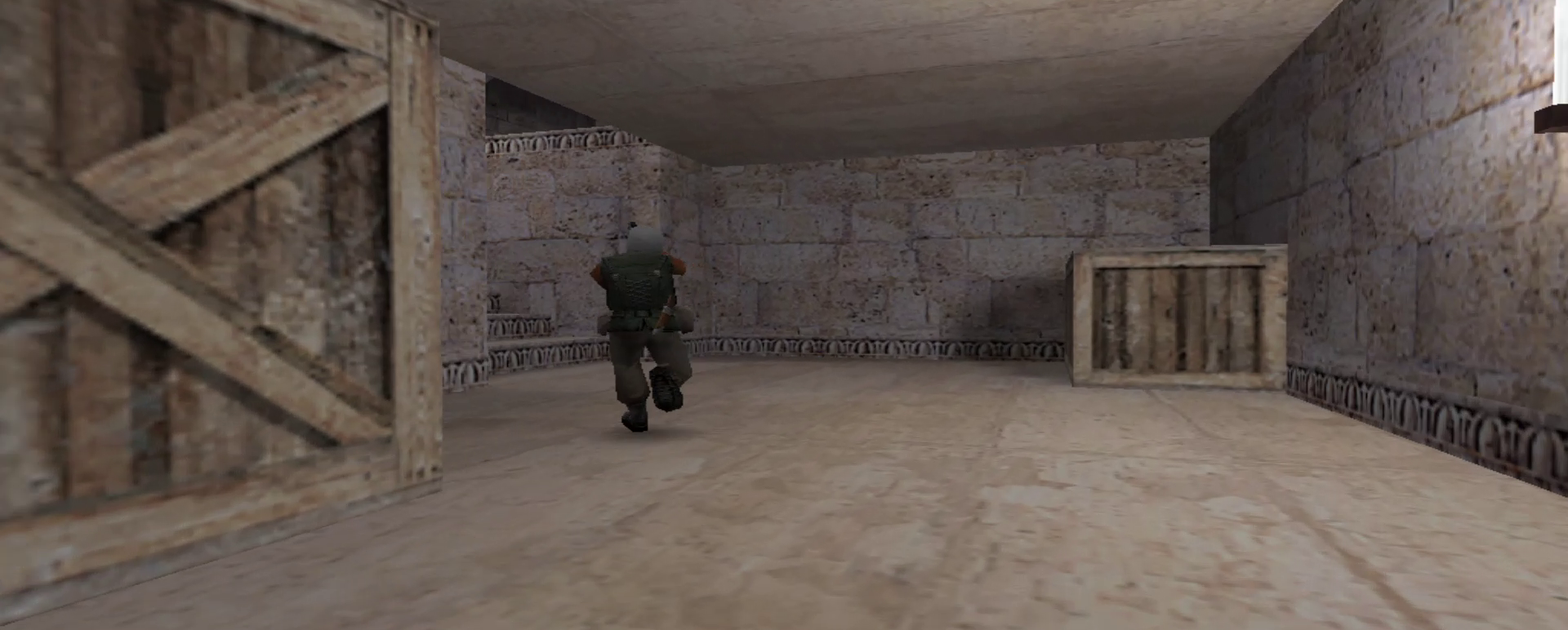ter: (595, 258, 691, 433)
ter_head: (626, 222, 665, 258)
